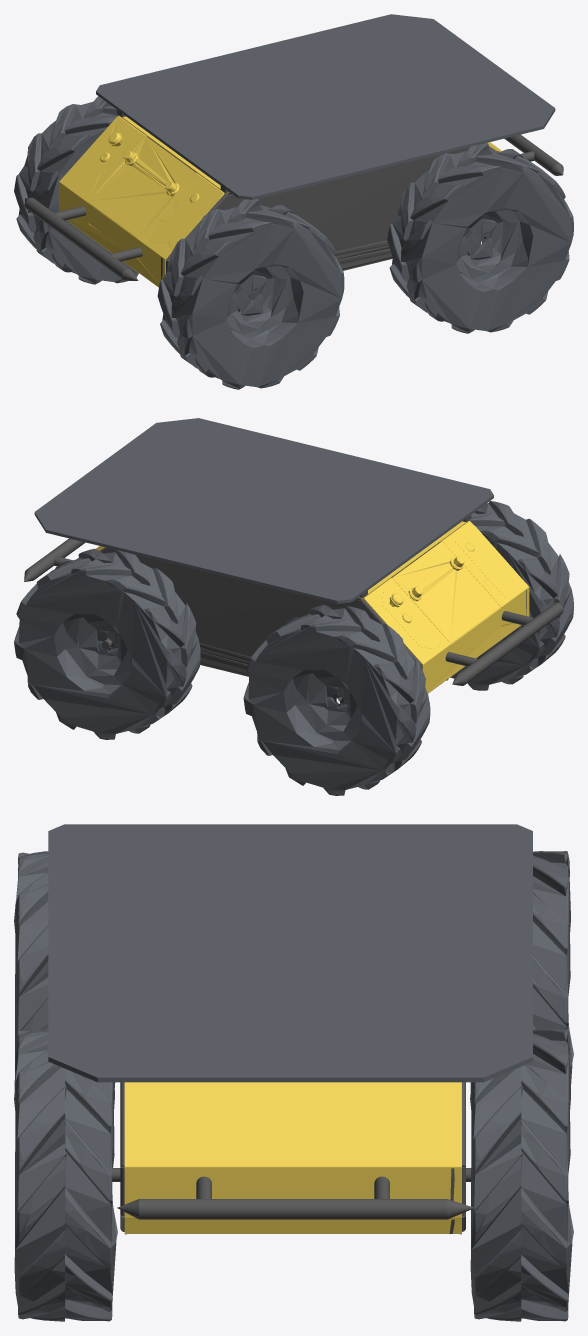
Rendered from husky.glb.
3 views of the same model, one above another, from view 1: azimuth 30°, elevation 25°; view 2: azimuth 150°, elevation 25°; view 3: azimuth 270°, elevation 25° (orthographic). The views are drawn at different scales.
Parts seen in each view (by area): view 1: top_plate_link, front_right_wheel_link, rear_right_wheel_link, top_chassis_link, base_link, rear_left_wheel_link, rear_bumper_link, front_bumper_link; view 2: top_plate_link, rear_left_wheel_link, front_left_wheel_link, top_chassis_link, base_link, rear_right_wheel_link, rear_bumper_link, front_bumper_link; view 3: top_plate_link, top_chassis_link, front_left_wheel_link, front_right_wheel_link, front_bumper_link, rear_left_wheel_link, rear_right_wheel_link, base_link.
Boxes of the visible parts, box(x1,y1,x2,y2) form: top_plate_link: box(96, 14, 555, 199); front_right_wheel_link: box(387, 143, 573, 333); rear_right_wheel_link: box(157, 199, 344, 389); top_chassis_link: box(59, 116, 501, 287); base_link: box(118, 115, 495, 300); rear_left_wheel_link: box(14, 96, 138, 284); rear_bumper_link: box(24, 197, 142, 280); front_bumper_link: box(504, 134, 563, 175); top_plate_link: box(34, 418, 493, 603); rear_left_wheel_link: box(243, 604, 430, 795); front_left_wheel_link: box(14, 548, 200, 739); top_chassis_link: box(96, 521, 529, 693); base_link: box(100, 520, 526, 701); rear_right_wheel_link: box(446, 501, 573, 690); rear_bumper_link: box(445, 602, 564, 685); front_bumper_link: box(24, 538, 85, 581); top_plate_link: box(48, 824, 532, 1082); top_chassis_link: box(124, 1082, 461, 1233); front_left_wheel_link: box(470, 1029, 573, 1321); front_right_wheel_link: box(14, 1029, 117, 1321); front_bumper_link: box(117, 1176, 474, 1219); rear_left_wheel_link: box(470, 851, 573, 1090); rear_right_wheel_link: box(14, 851, 115, 1089); base_link: box(112, 1082, 471, 1234).
Size of the model in its own units: 0.9854 by 0.397 by 0.6815.
